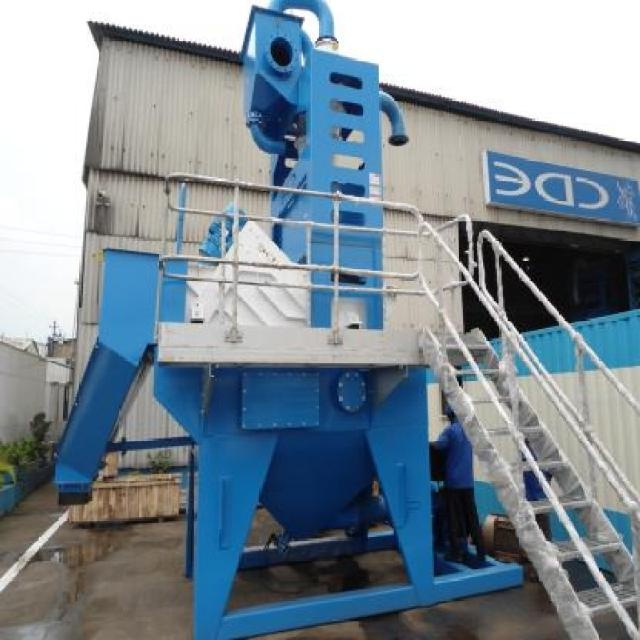stair: (417, 323, 640, 640)
